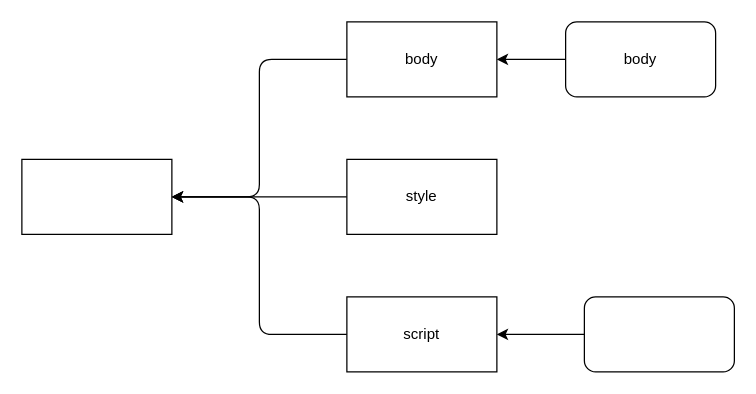
The diagram is 756 pixels wide and 394 high, and some of its shapes have lost their labels. Each missing label, with the centre of its shape:
"markdown" goes at pixel 658 334.
"view" goes at pixel 96 196.
